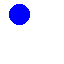circle: (9, 4, 29, 24)
